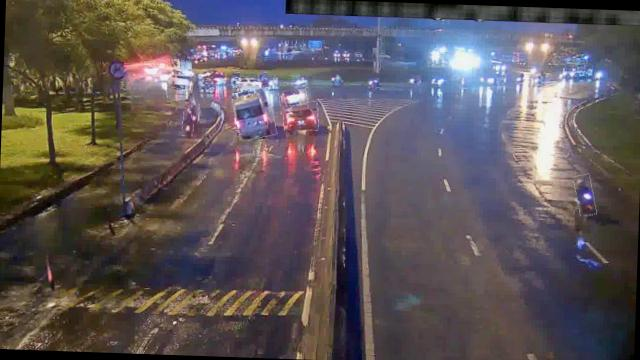Bike: (574, 174, 595, 216), (182, 111, 194, 136), (190, 103, 200, 124)
Bus: (232, 88, 276, 139)
Car: (283, 102, 319, 132), (278, 83, 308, 107), (169, 70, 194, 90)
